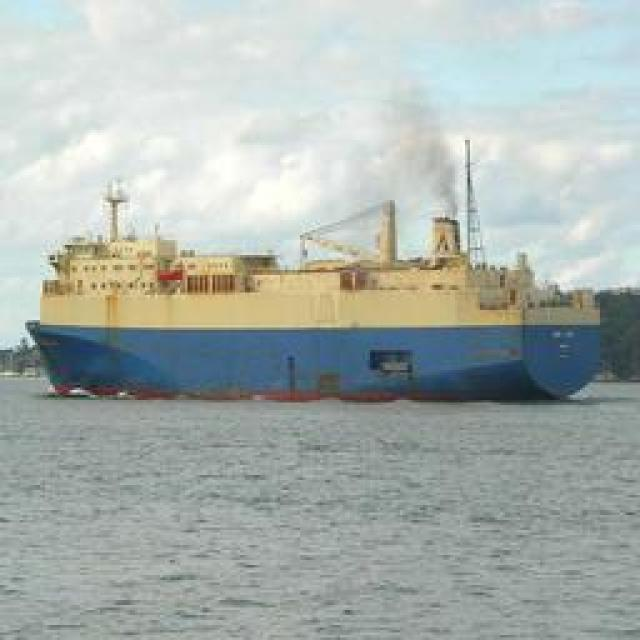CIV_Ship: (30, 174, 610, 398)
